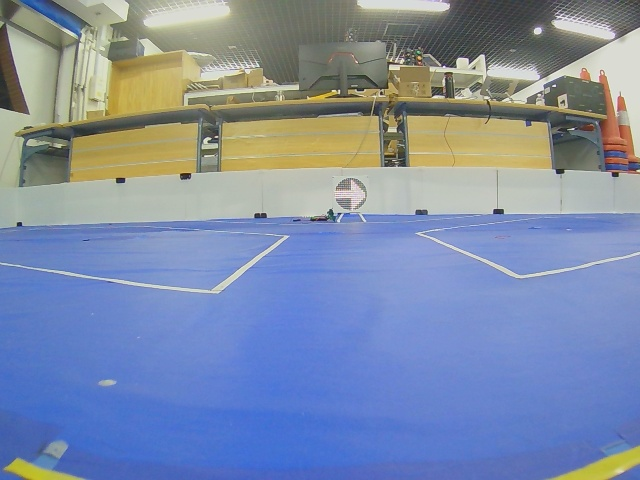right_yellow: (334, 177, 368, 211)
